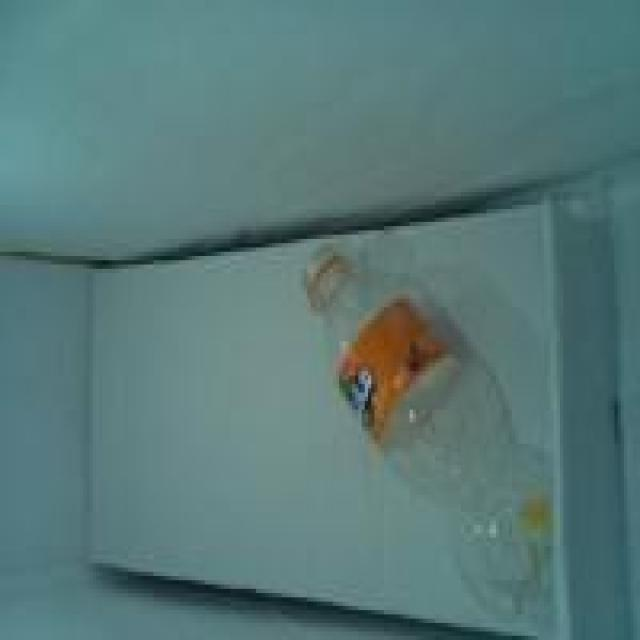bottle: (299, 241, 558, 626)
